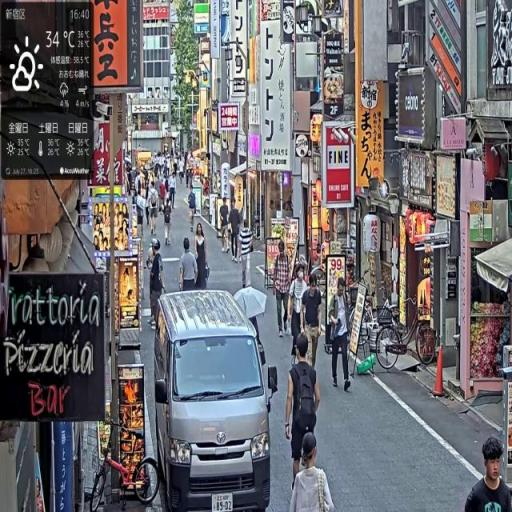person: (286, 335, 321, 493), (465, 433, 512, 512), (291, 432, 336, 512), (327, 274, 353, 394), (287, 263, 310, 366), (302, 273, 324, 375), (272, 237, 293, 339), (148, 240, 165, 332), (238, 218, 255, 292), (180, 240, 199, 293), (195, 224, 210, 291), (229, 200, 243, 264), (164, 198, 175, 248)
